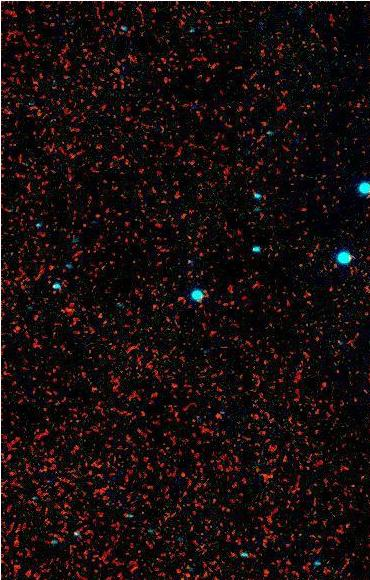star: (202, 398, 232, 428)
